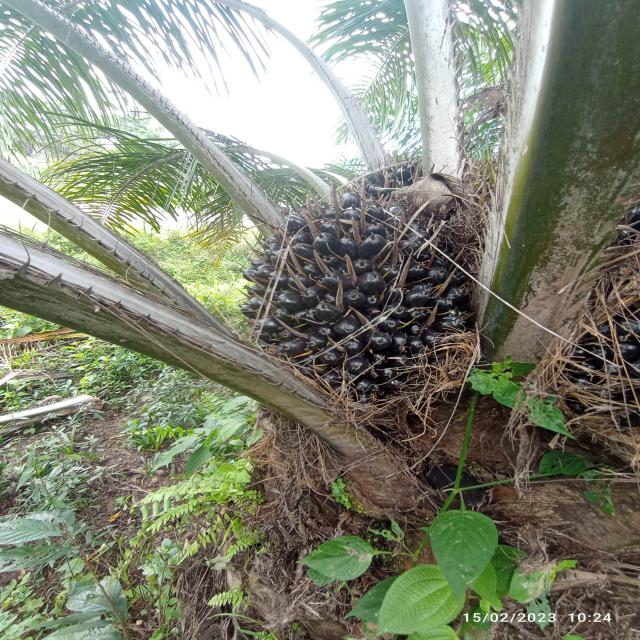fraksi 00: (216, 170, 495, 428)
